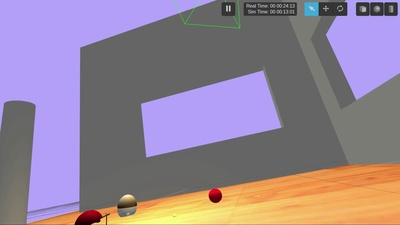mira_robot: (118, 194, 137, 218)
